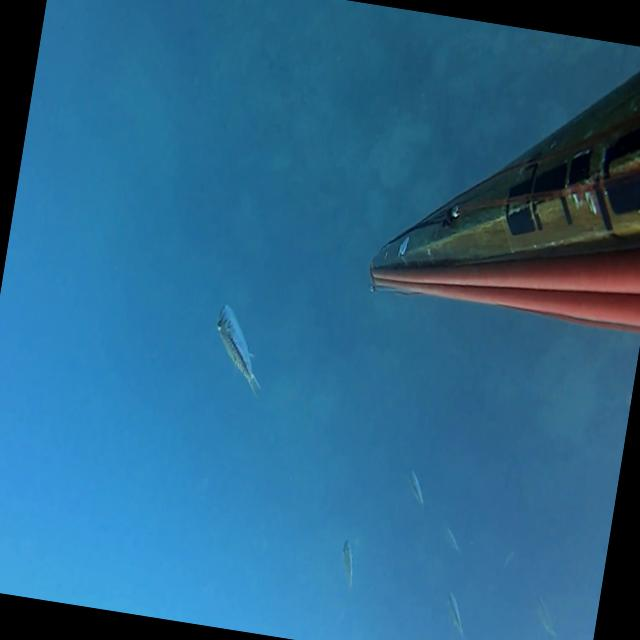Balon Baligi: (206, 302, 275, 399), (442, 590, 471, 639), (530, 596, 563, 638), (336, 538, 358, 590), (404, 471, 430, 512), (440, 526, 464, 556)
